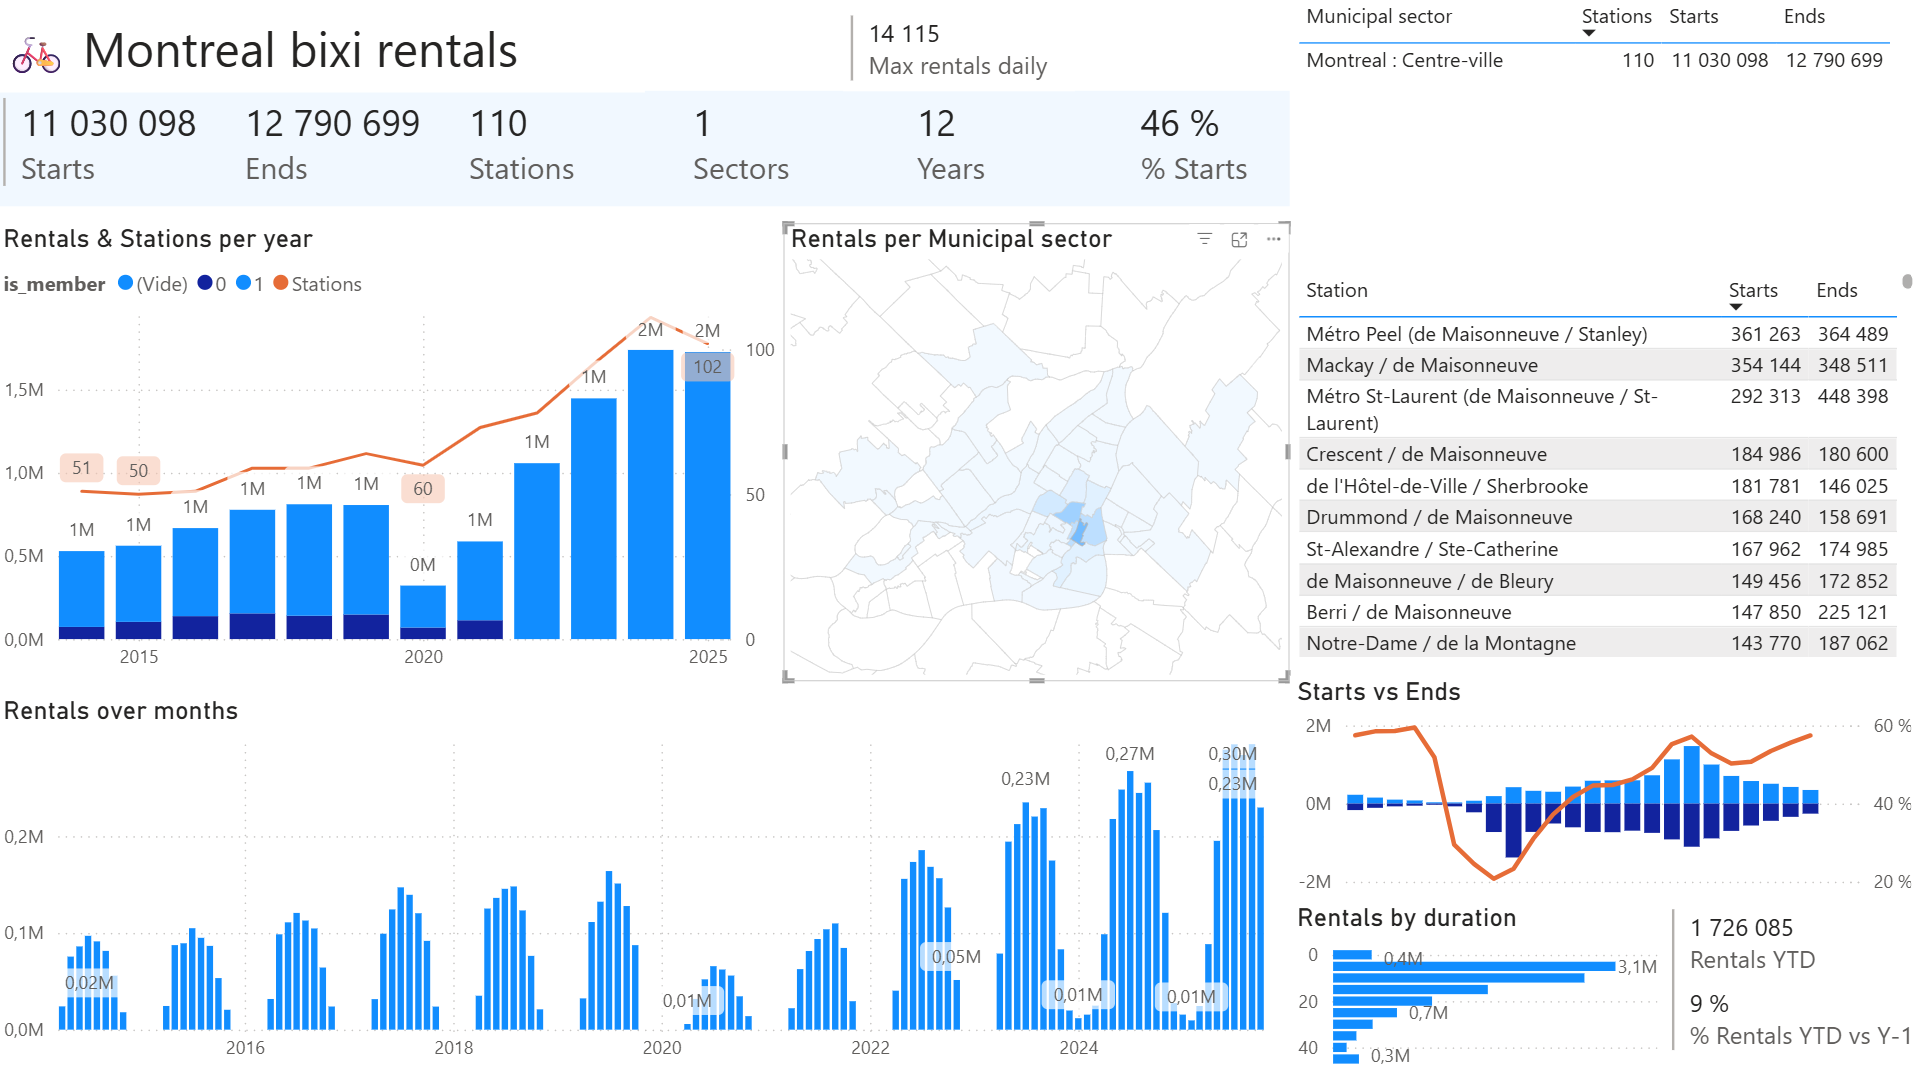

Layout of this report page (visuals, bound fields, positions):
{"tool":"powerbi","page":{"name":"Montréal Bixi Rentals","canvas":[1280,720],"ordinal":0},"visuals":[{"type":"multiRowCard","fields":{"Values":["stations_yearly.Starts","stations_yearly.Ends","stations_yearly.Stations","stations_yearly.Sectors","Count(stations_yearly.year)","stations_yearly.Starts / Ends"]},"box":[0,65.9,914.7,76.9],"z":0},{"type":"textbox","box":[0,5,431.1,59.8],"z":1000},{"type":"tableEx","fields":{"Values":["secteurs_municipaux_od_2013.sector_name","stations_yearly.Stations","stations_yearly.Starts","stations_yearly.Ends"]},"box":[859.7,0,420.3,181.7],"z":2000},{"type":"tableEx","fields":{"Values":["stations_yearly.name1","stations_yearly.Starts","stations_yearly.Ends"]},"box":[859.7,181.7,420.3,264.8],"z":3000},{"type":"lineStackedColumnComboChart","title":"Rentals & Stations per year","fields":{"Category":["dim_date.dt_annee"],"Series":["raw_bixi_rentals_2014_2020.is_member"],"Y":["raw_bixi_rentals_2014_2020.Rentals"],"Y2":["raw_bixi_rentals_2014_2020.Stations"]},"box":[0,153.8,523.3,306.3],"z":4000},{"type":"shapeMap","title":"Rentals per Municipal sector","fields":{"Category":["secteurs_municipaux_od_2013.sector_name"],"Value":["stations_yearly.Starts + Ends"]},"box":[523.3,153.8,336.5,304.9],"z":5000},{"type":"lineClusteredColumnComboChart","title":"Rentals over months","fields":{"Category":["dim_date.dt_mois"],"Y":["raw_bixi_rentals_2014_2020.Rentals"]},"box":[0,466.6,859.7,252.9],"z":6000},{"type":"lineStackedColumnComboChart","title":"Starts vs Ends","fields":{"Category":["raw_bixi_rentals_2014_2020.Start hour"],"Y":["stations_yearly.Starts","stations_yearly.-Ends"],"Y2":["stations_yearly.% Starts"]},"box":[859.7,454.6,420.3,151.1],"z":7000},{"type":"clusteredBarChart","title":"Rentals by duration","fields":{"Category":["raw_bixi_rentals_2014_2020.duration_5min_group"],"Y":["stations_yearly.Starts"]},"box":[859.5,604.8,249.6,115.6],"z":8000},{"type":"multiRowCard","fields":{"Values":["raw_bixi_rentals_2014_2020.Rentals YTD","raw_bixi_rentals_2014_2020.% Rentals YTD vs Y-1"]},"box":[1109.1,604.8,170.9,115.6],"z":9000},{"type":"multiRowCard","fields":{"Values":["raw_bixi_rentals_2014_2020.Max rentals daily"]},"box":[563.1,11,153.8,54.9],"z":10000},{"type":"image","box":[375.5,1.7,154.5,65.6],"z":10001}]}

Visuals, with their boxes in screenshot pixels (x1, y1, x2, y2), scaled from the page's 1280x720 canvas onto the 1917x1072 screenshot:
multiRowCard - stations_yearly.Starts x stations_yearly.Ends: (x1=0, y1=98, x2=1370, y2=213)
textbox: (x1=0, y1=7, x2=646, y2=96)
tableEx - secteurs_municipaux_od_2013.sector_name x stations_yearly.Stations: (x1=1288, y1=0, x2=1916, y2=271)
tableEx - stations_yearly.name1 x stations_yearly.Starts: (x1=1288, y1=271, x2=1916, y2=665)
"Rentals & Stations per year" lineStackedColumnComboChart: (x1=0, y1=229, x2=784, y2=685)
"Rentals per Municipal sector" shapeMap: (x1=784, y1=229, x2=1288, y2=683)
"Rentals over months" lineClusteredColumnComboChart: (x1=0, y1=695, x2=1288, y2=1071)
"Starts vs Ends" lineStackedColumnComboChart: (x1=1288, y1=677, x2=1916, y2=902)
"Rentals by duration" clusteredBarChart: (x1=1287, y1=900, x2=1661, y2=1071)
multiRowCard - raw_bixi_rentals_2014_2020.Rentals YTD x raw_bixi_rentals_2014_2020.% Rentals YTD vs Y-1: (x1=1661, y1=900, x2=1916, y2=1071)
multiRowCard - raw_bixi_rentals_2014_2020.Max rentals daily: (x1=843, y1=16, x2=1074, y2=98)
image: (x1=562, y1=3, x2=794, y2=100)
